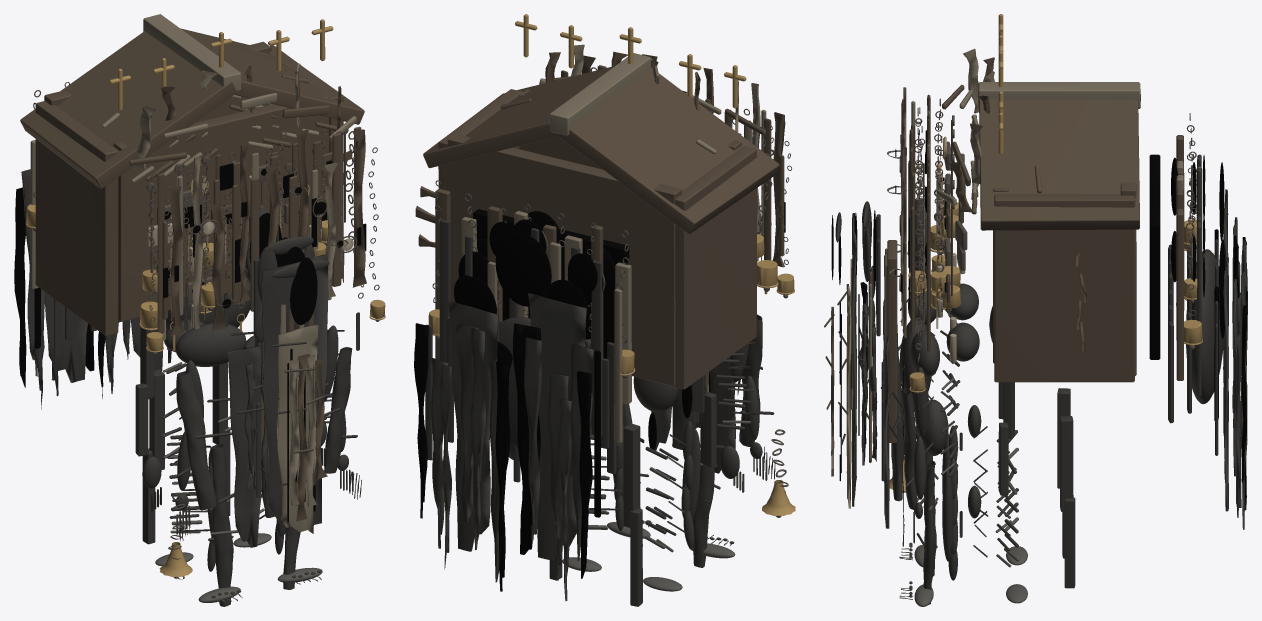
File: penance_carrier_end_goal_v11_6_authored_clay_sculpt.glb
3 renders of one model, left to right at view 1: azimuth 30°, elevation 25°; view 2: azimuth 150°, elevation 25°; view 3: azimuth 270°, elevation 25°, orthographic. The views are drawn at different scales.
Parts seen in each view (by area): view 1: PC_V4_shrine_front_rotten_wall, PC_V4_shrine_left_side_wall, PC_V4_roof_left_steep_slab, PC_V11_black_inner_hanging_cloth_behind_mask, PC_V11_left_torn_front_cloak_sheet, PC_V4_roof_right_steep_slab, PC_V11_warped_central_door_mask_panel, PC_V11_5_left_arm_pinched_wrapped_sculpt, PC_V4_roof_ridge_heavy_rot, PC_V11_5_left_leg_compressed_wrapped_sculpt, PC_V11_crushed_left_shoulder_meat, PC_V11_back_rotten_skin_sheet_left (+39 smaller); view 2: PC_V4_shrine_rear_rotten_wall, PC_V4_roof_left_steep_slab, PC_V4_shrine_left_side_wall, PC_V11_back_rotten_skin_sheet_left, PC_V4_roof_right_steep_slab, PC_V11_back_rotten_skin_sheet_right, PC_V11_back_deep_rotted_hole_01, PC_V11_5_back_layered_rotten_sheet_02, PC_V4_roof_ridge_heavy_rot, PC_V4_back_black_rotten_hollow, PC_V11_6_back_thin_torn_rag_layer_02, PC_V11_6_back_thin_torn_rag_layer_04 (+48 smaller); view 3: PC_V4_shrine_right_side_wall, PC_V4_roof_right_steep_slab, PC_V4_roof_ridge_heavy_rot, PC_V11_back_swollen_rotten_under_mass, PC_V4_back_black_rotten_hollow, PC_V6_long_door_mask_front, PC_V5_back_rotten_vertical_plank_07, PC_V11_5_right_leg_compressed_wrapped_sculpt, PC_V11_black_inner_hanging_cloth_behind_mask, PC_V11_5_right_arm_pinched_wrapped_sculpt, PC_V11_back_rotten_skin_sheet_right, PC_V6_right_wrapped_thigh (+23 smaller).
Part boxes in pixels (bbox=[...]): PC_V4_shrine_front_rotten_wall: bbox=[113, 92, 329, 321]; PC_V4_shrine_left_side_wall: bbox=[35, 101, 118, 335]; PC_V4_roof_left_steep_slab: bbox=[20, 31, 237, 188]; PC_V11_black_inner_hanging_cloth_behind_mask: bbox=[261, 254, 328, 524]; PC_V11_left_torn_front_cloak_sheet: bbox=[228, 345, 261, 547]; PC_V4_roof_right_steep_slab: bbox=[180, 28, 364, 124]; PC_V11_warped_central_door_mask_panel: bbox=[277, 324, 318, 533]; PC_V11_5_left_arm_pinched_wrapped_sculpt: bbox=[176, 371, 217, 510]; PC_V4_roof_ridge_heavy_rot: bbox=[143, 14, 241, 90]; PC_V11_5_left_leg_compressed_wrapped_sculpt: bbox=[210, 444, 233, 606]; PC_V11_crushed_left_shoulder_meat: bbox=[175, 323, 246, 366]; PC_V11_back_rotten_skin_sheet_left: bbox=[44, 292, 87, 382]; PC_V4_shrine_rear_rotten_wall: bbox=[447, 133, 681, 386]; PC_V4_roof_left_steep_slab: bbox=[559, 67, 779, 233]; PC_V4_shrine_left_side_wall: bbox=[672, 146, 756, 389]; PC_V11_back_rotten_skin_sheet_left: bbox=[528, 293, 586, 560]; PC_V4_roof_right_steep_slab: bbox=[423, 67, 611, 167]; PC_V11_back_rotten_skin_sheet_right: bbox=[448, 301, 498, 551]; PC_V11_back_deep_rotted_hole_01: bbox=[495, 232, 551, 306]; PC_V11_5_back_layered_rotten_sheet_02: bbox=[512, 323, 540, 554]; PC_V4_roof_ridge_heavy_rot: bbox=[549, 53, 650, 135]; PC_V4_back_black_rotten_hollow: bbox=[473, 209, 629, 358]; PC_V11_6_back_thin_torn_rag_layer_02: bbox=[524, 337, 542, 540]; PC_V11_6_back_thin_torn_rag_layer_04: bbox=[470, 327, 486, 550]; PC_V4_shrine_right_side_wall: bbox=[994, 194, 1135, 382]; PC_V4_roof_right_steep_slab: bbox=[979, 99, 1139, 230]; PC_V4_roof_ridge_heavy_rot: bbox=[978, 82, 1140, 107]; PC_V11_back_swollen_rotten_under_mass: bbox=[1186, 249, 1223, 404]; PC_V4_back_black_rotten_hollow: bbox=[1149, 154, 1160, 359]; PC_V6_long_door_mask_front: bbox=[887, 240, 897, 442]; PC_V5_back_rotten_vertical_plank_07: bbox=[1176, 208, 1183, 380]; PC_V11_5_right_leg_compressed_wrapped_sculpt: bbox=[923, 460, 935, 604]; PC_V11_black_inner_hanging_cloth_behind_mask: bbox=[852, 213, 856, 506]; PC_V11_5_right_arm_pinched_wrapped_sculpt: bbox=[902, 387, 917, 510]; PC_V11_back_rotten_skin_sheet_right: bbox=[1223, 257, 1228, 511]; PC_V6_right_wrapped_thigh: bbox=[1060, 416, 1073, 511].
Bounding box in the file's own units: 2.65 × 4.48 × 3.2.
